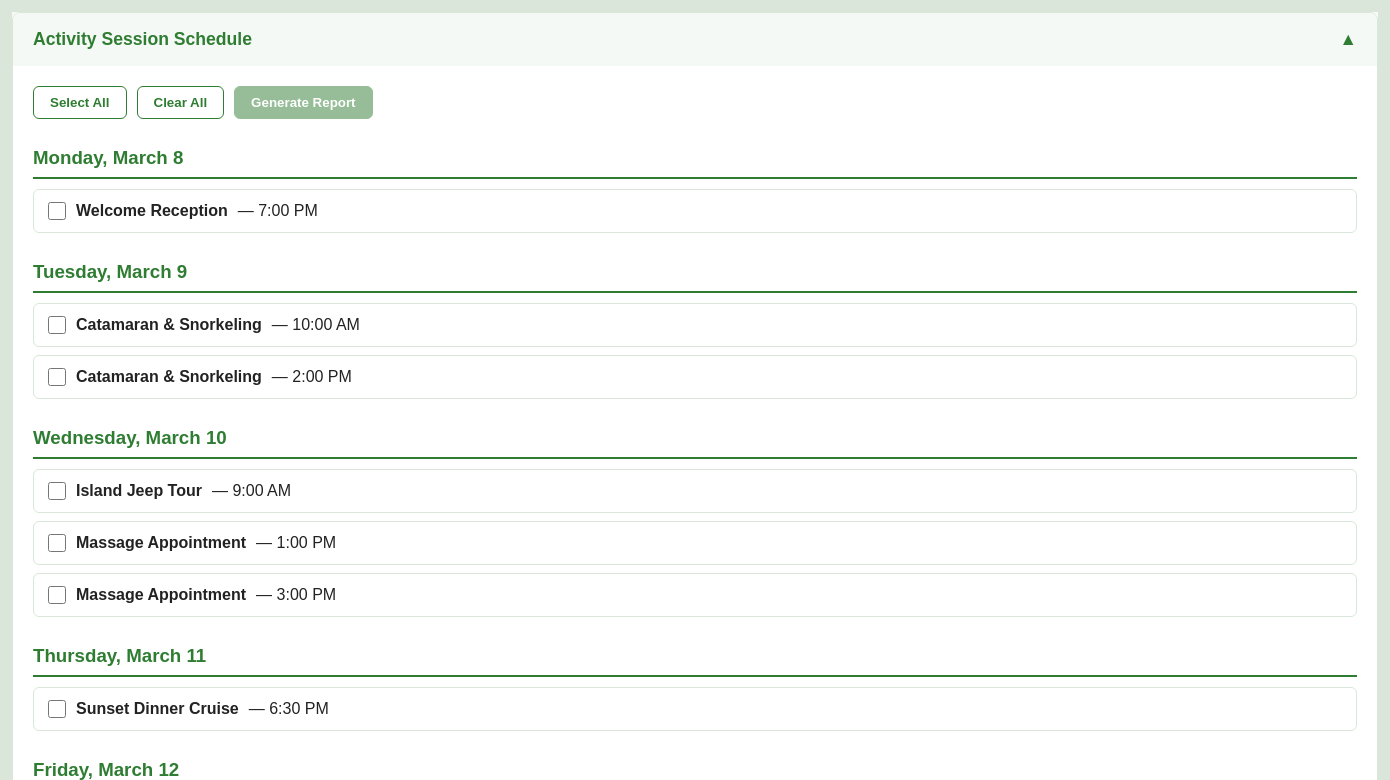
Test: ActivitySessionReportBuilder › selects all sessions when Select All is clicked
Click the button "Select All" at {"x": 80, "y": 102}, box x1=33 y1=86 x2=126 y2=119
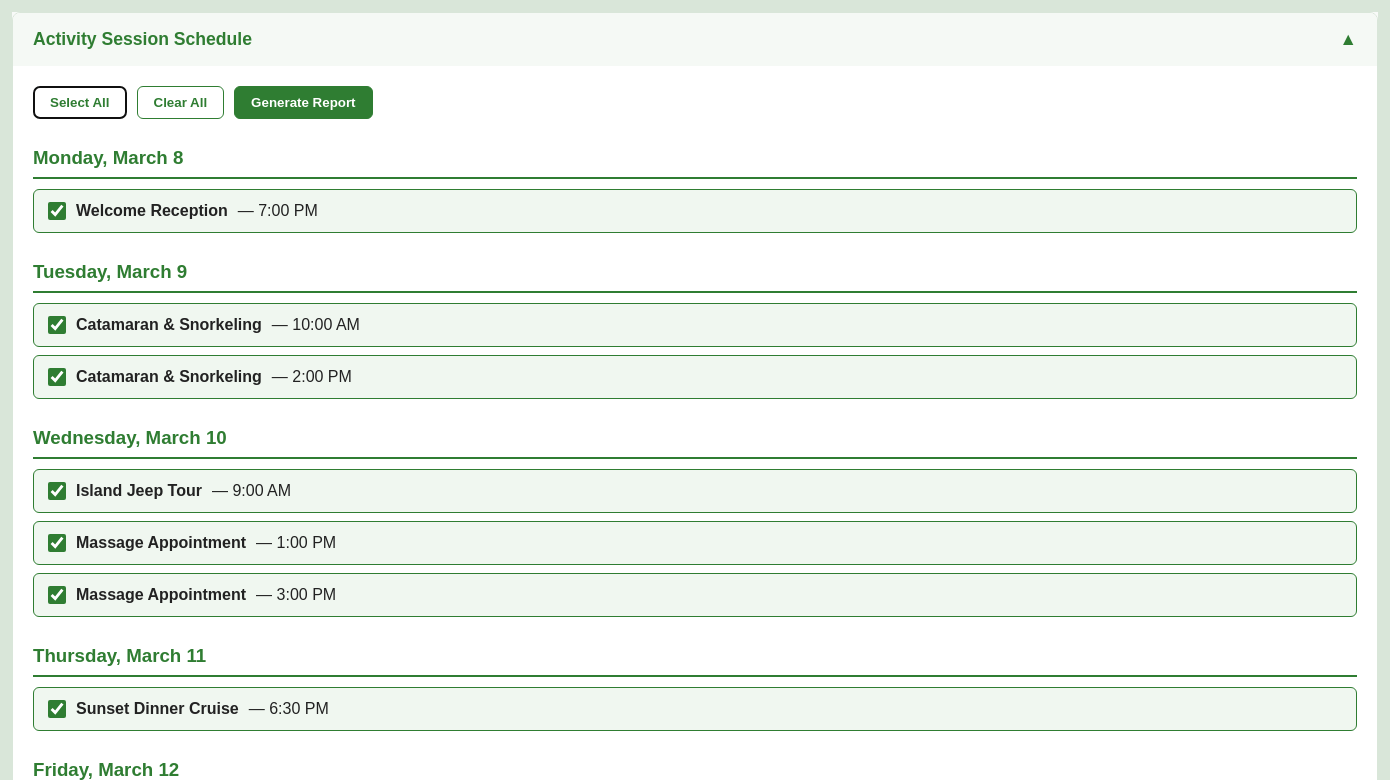
expect the checkbox labelled "Welcome Reception — 7:00 PM" is checked: met, box x1=48 y1=202 x2=66 y2=220
expect the checkbox labelled "Catamaran & Snorkeling — 10:00 AM" is checked: met, box x1=48 y1=316 x2=66 y2=334
expect the checkbox labelled "Catamaran & Snorkeling — 2:00 PM" is checked: met, box x1=48 y1=368 x2=66 y2=386
